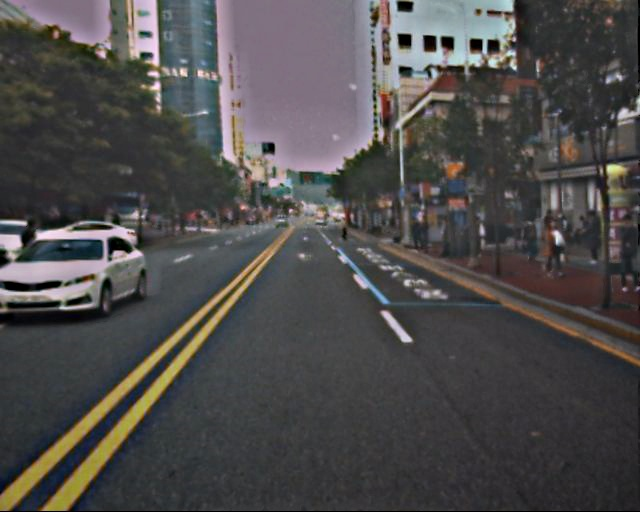person: (607, 218, 638, 295), (537, 215, 563, 278), (580, 209, 603, 265), (516, 217, 536, 265), (471, 218, 489, 262), (435, 215, 453, 258), (409, 215, 423, 248), (338, 215, 348, 240)
